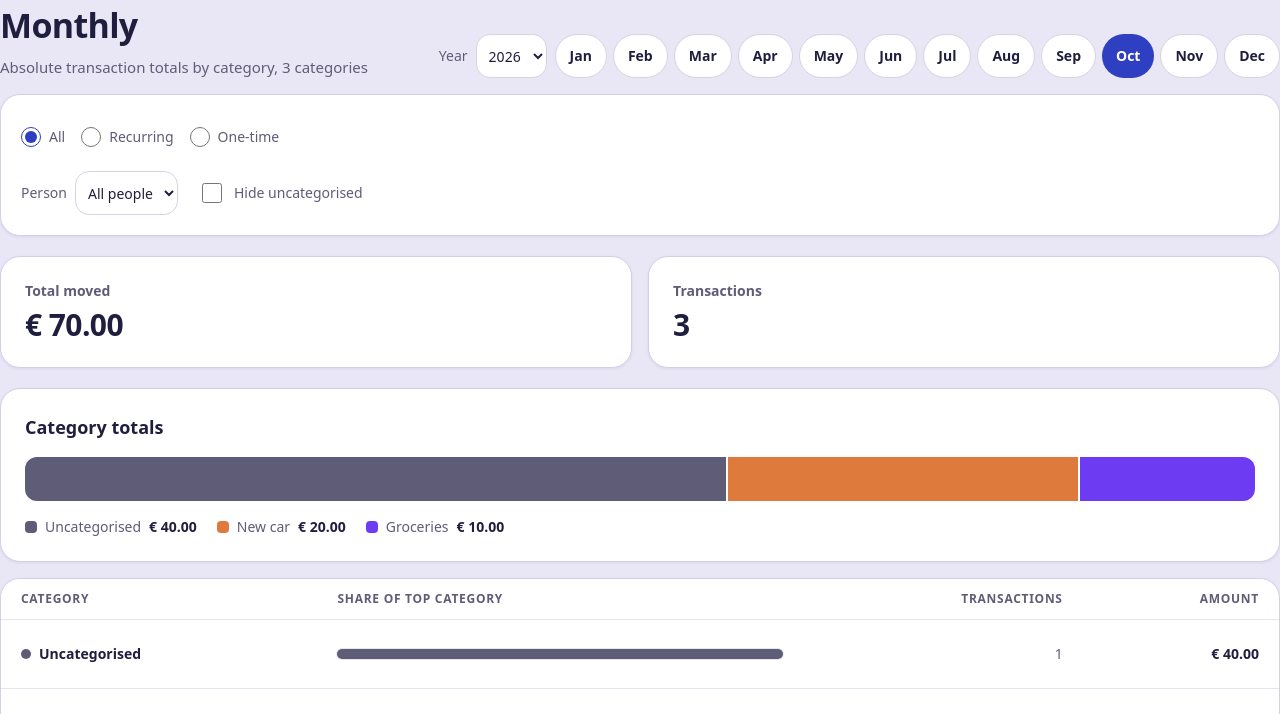
Scenario: the Monthly screen › scopes every figure with the expense-type filter without another request
Check: the text with test id "transaction-count-value" reads "3", box [673, 304, 690, 345]
Click the radio button with test id "expense-type-recurring" at (91, 137), box [81, 115, 101, 159]
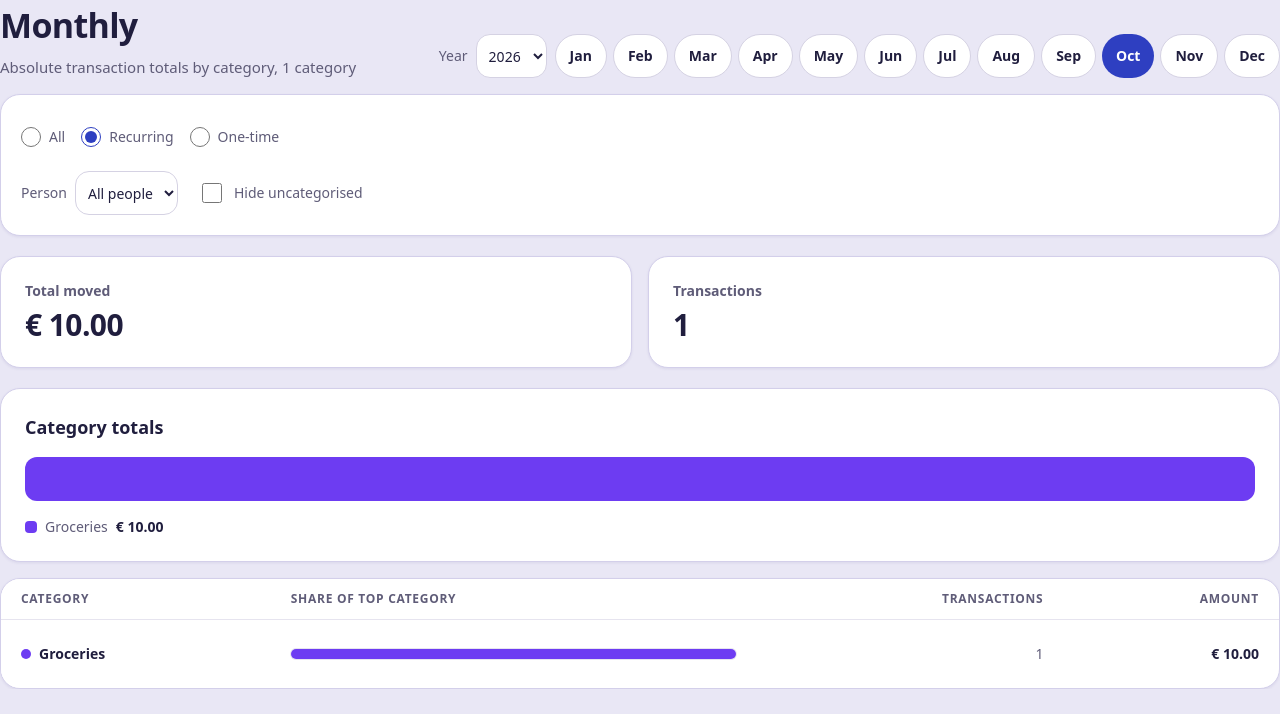
Check: the text with test id "transaction-count-value" reads "1", box [673, 304, 690, 345]
Check: the number of rows with test id "category-row" is 1, box [1, 620, 1279, 688]
Check: the text "New car" is gone
Click the radio button with test id "expense-type-one-time" at (200, 137), box [190, 115, 210, 159]
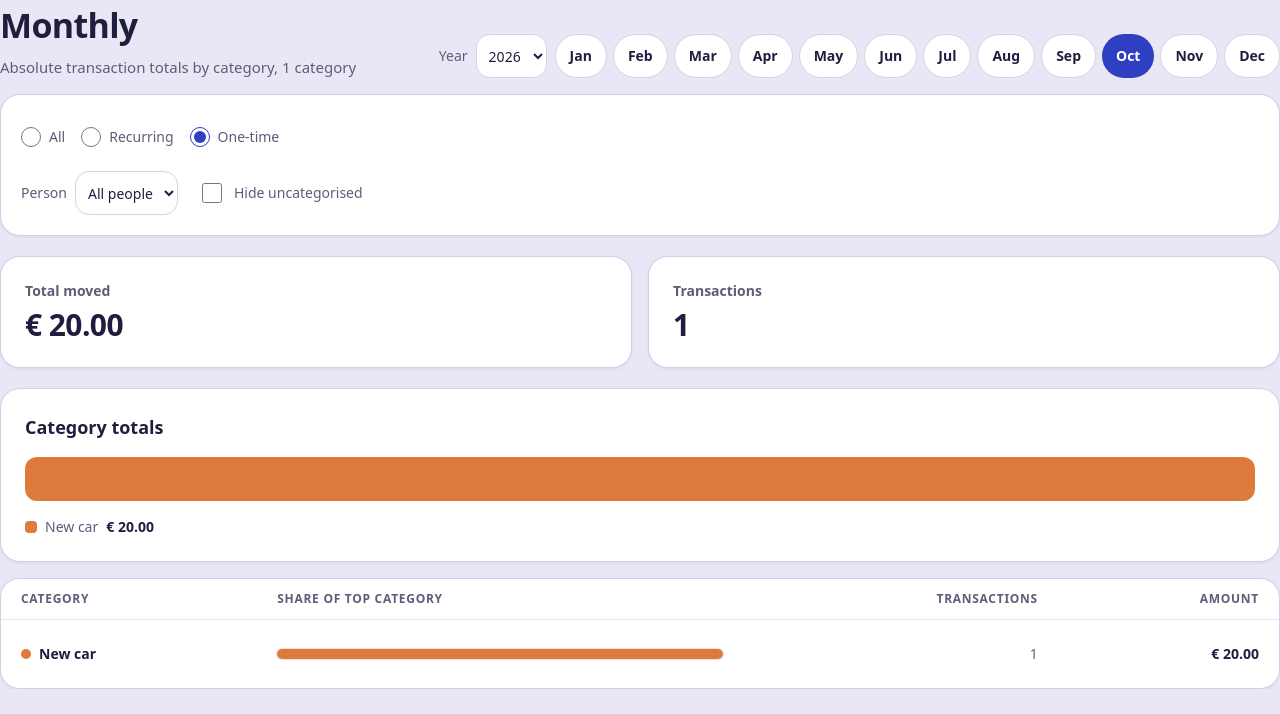
Check: the number of rows with test id "category-row" is 1, box [1, 620, 1279, 688]
Check: the text "New car" is shown, box [45, 517, 98, 537]
